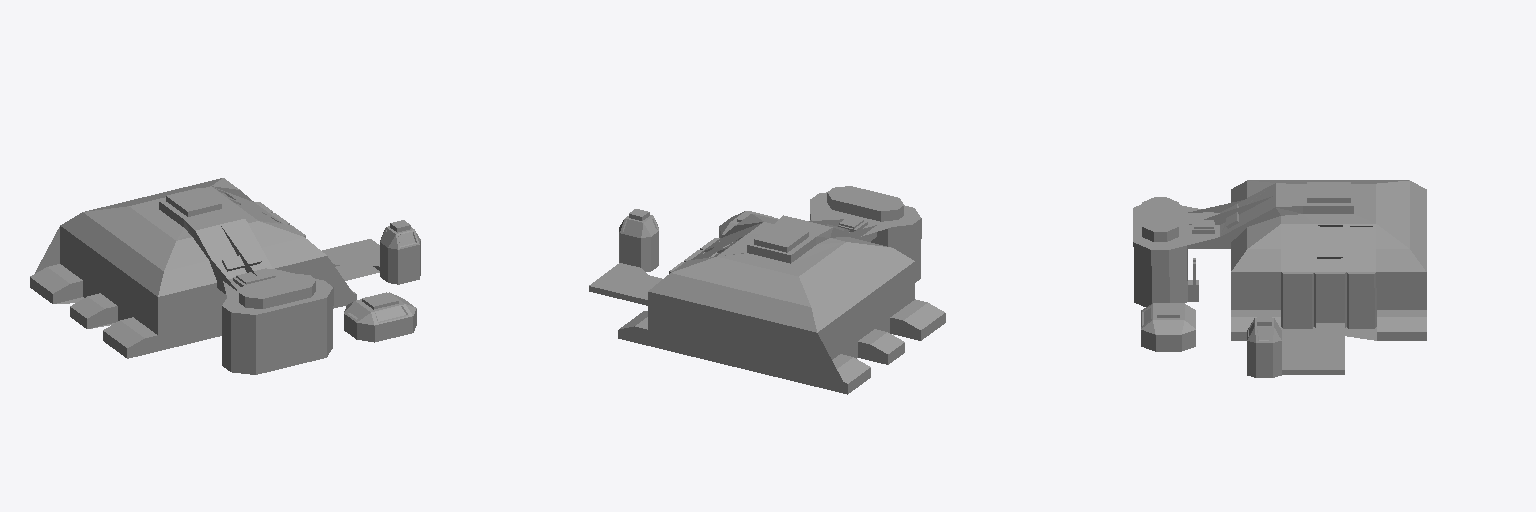
The model's file is barraca.obj.
3 renders of one model, left to right at view 1: azimuth 30°, elevation 25°; view 2: azimuth 150°, elevation 25°; view 3: azimuth 270°, elevation 25°, orthographic.
Parts seen in each view (by area): view 1: Cube; view 2: Cube; view 3: Cube.
Boxes of the visible parts, x1,y1,x2,y2 form: Cube: [30, 178, 420, 374]; Cube: [589, 186, 945, 394]; Cube: [1133, 180, 1426, 377].
Bounding box in the file's own units: 7.72 × 2.3 × 6.4.